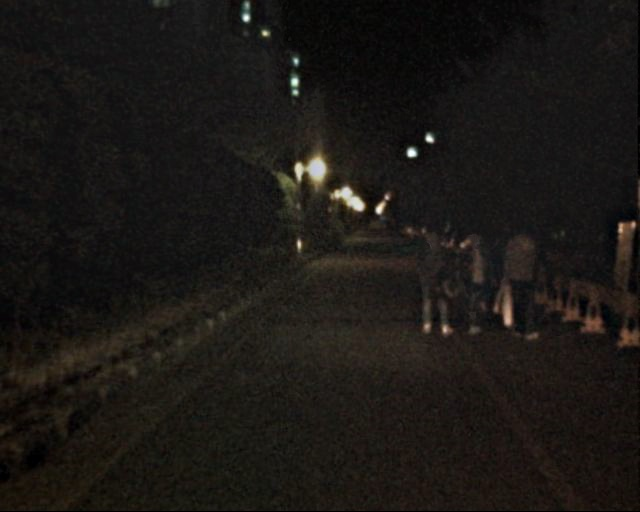person: (495, 222, 545, 345), (408, 229, 455, 343), (450, 232, 493, 338), (487, 235, 512, 295)
